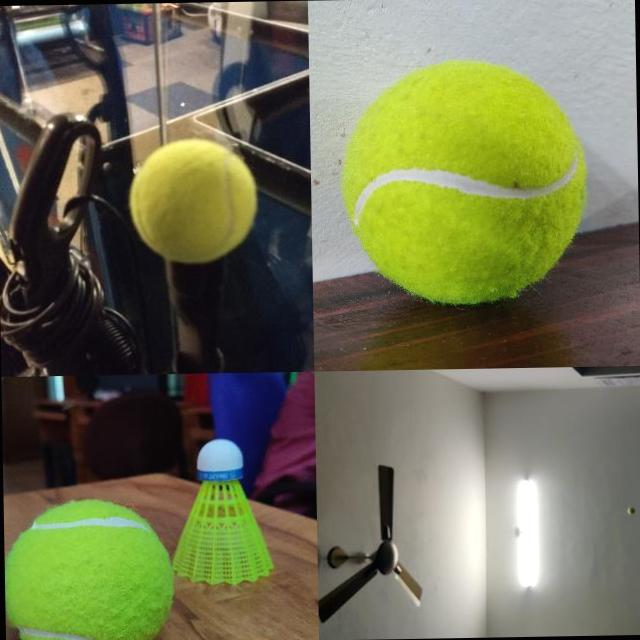Tennis Ball: (338, 56, 590, 308), (3, 497, 172, 640), (127, 137, 259, 264), (628, 506, 634, 514)
